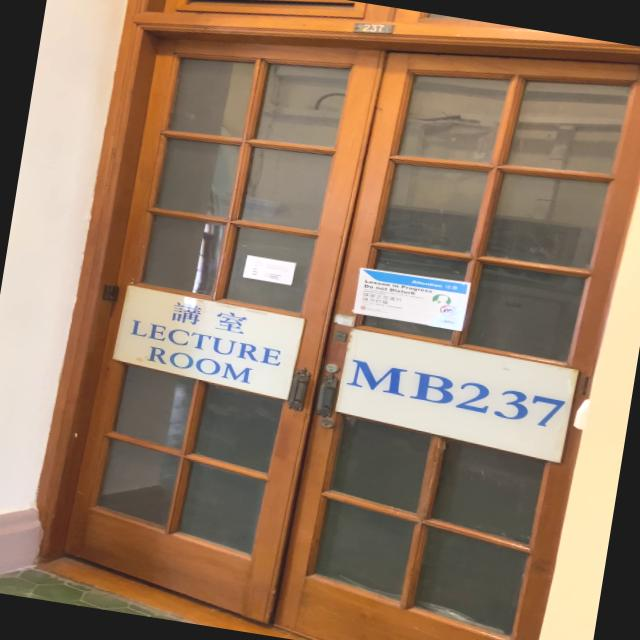room237: (349, 17, 408, 44)
room237Window: (344, 354, 568, 438)
